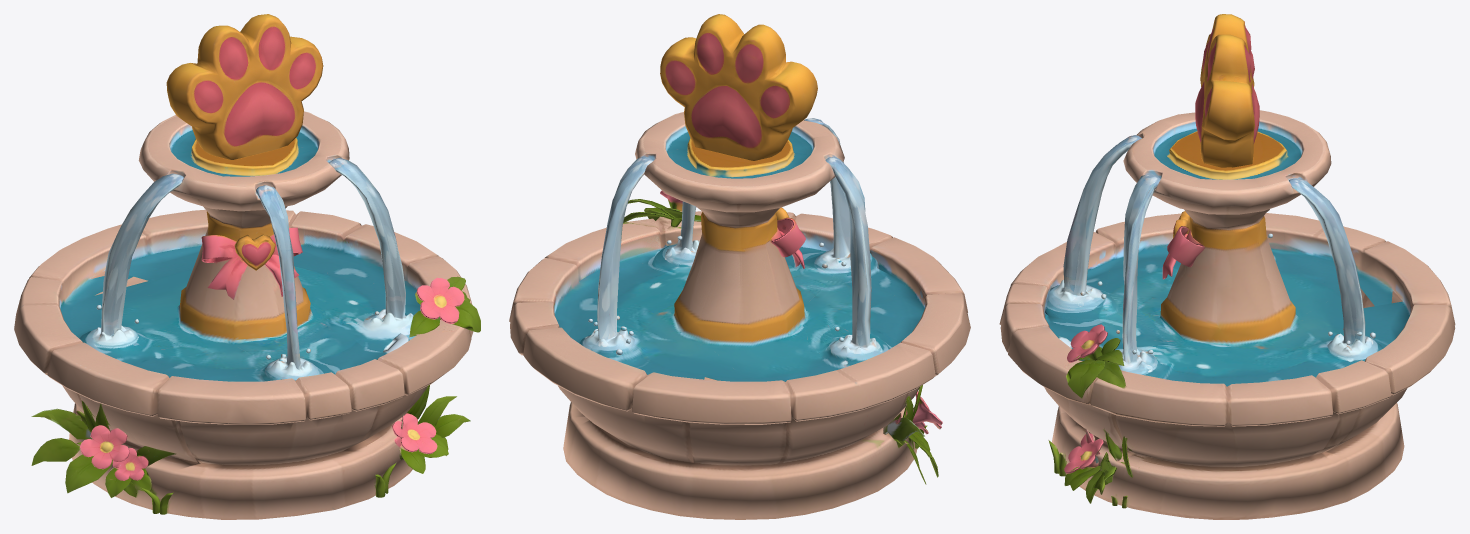
File: Meshy_AI_Pawprint_Fountain_1114003232_texture.glb
3 renders of one model, left to right at view 1: azimuth 30°, elevation 25°; view 2: azimuth 150°, elevation 25°; view 3: azimuth 270°, elevation 25°, orthographic.
Bounding box in the file's own units: 0.937 × 0.9526 × 0.9326.
1 material, 1 textured.
